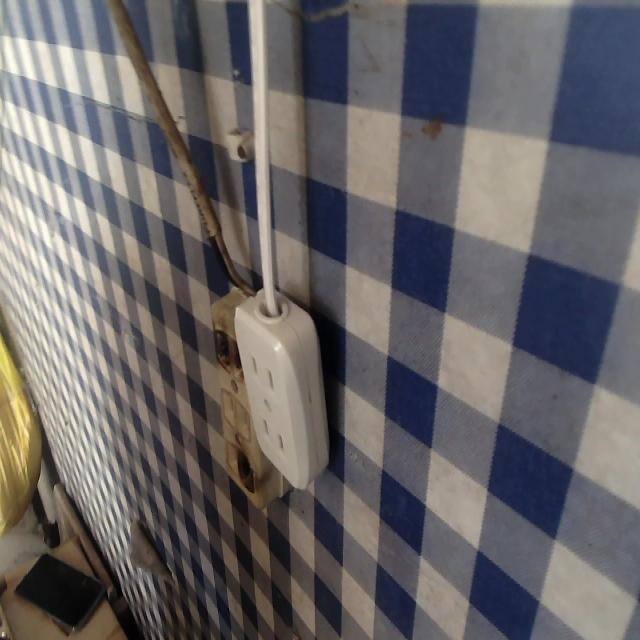-: (207, 323, 247, 377), (234, 449, 257, 492)
